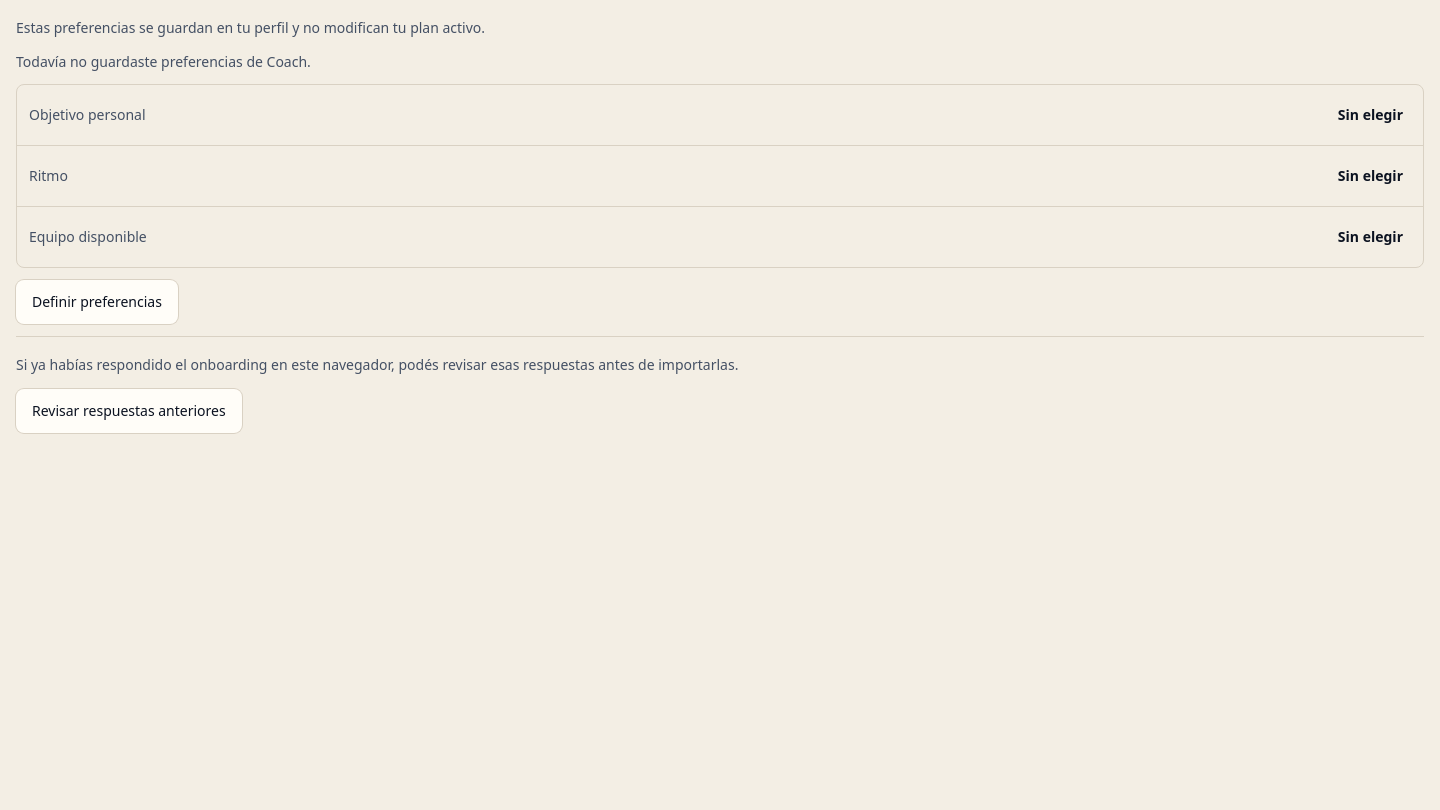
Test: ProfileCoachContext › refreshes server state after a conditional import loses a 409 race
Check: the text "Todavía no guardaste preferencias de Coach." is shown, box [16, 52, 311, 71]
Click the button "Revisar respuestas anteriores".
click(129, 411)  # box [16, 389, 242, 433]
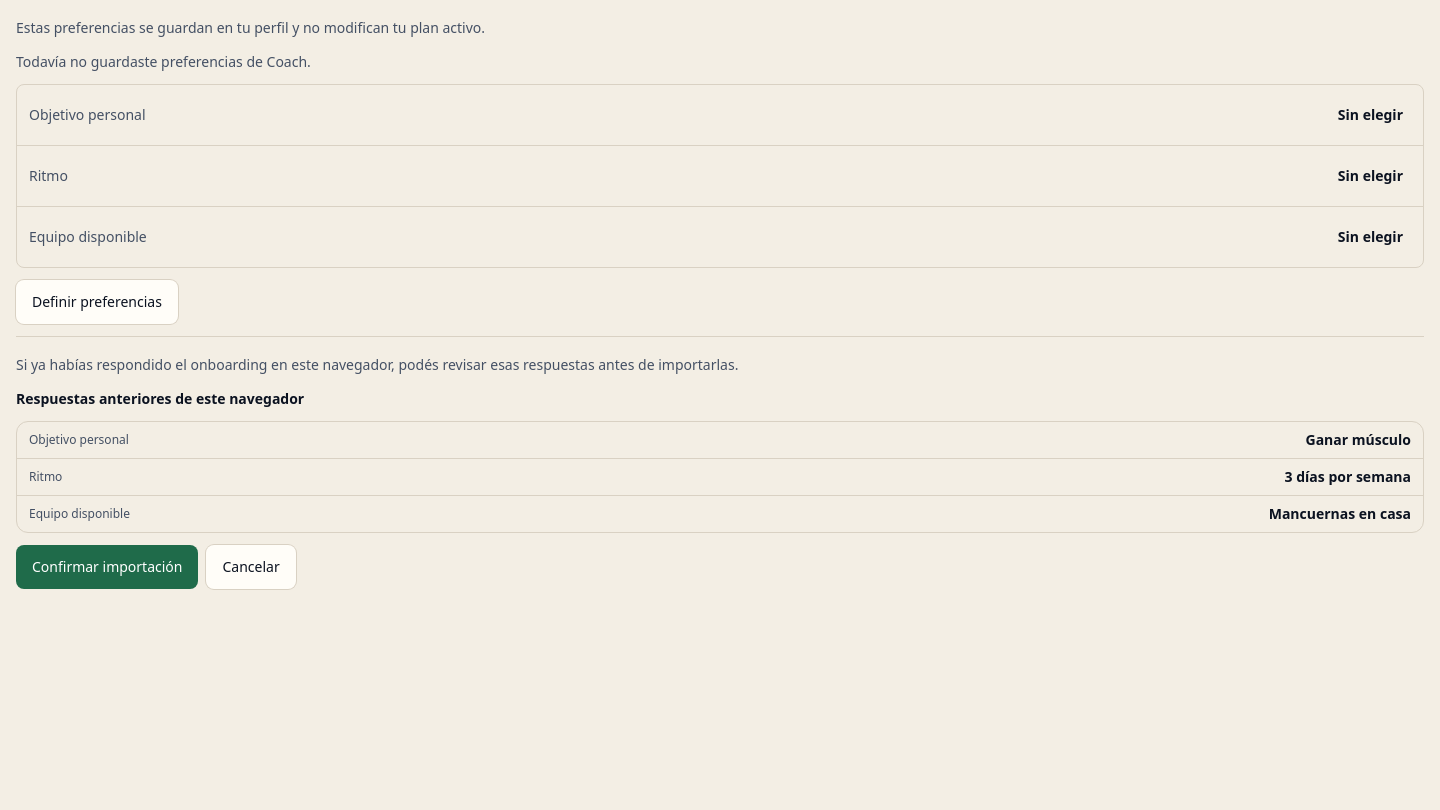
Check: the heading "Respuestas anteriores de este navegador" is shown, box [16, 389, 304, 408]
Click the button "Confirmar importación".
click(107, 567)  # box [16, 545, 198, 589]
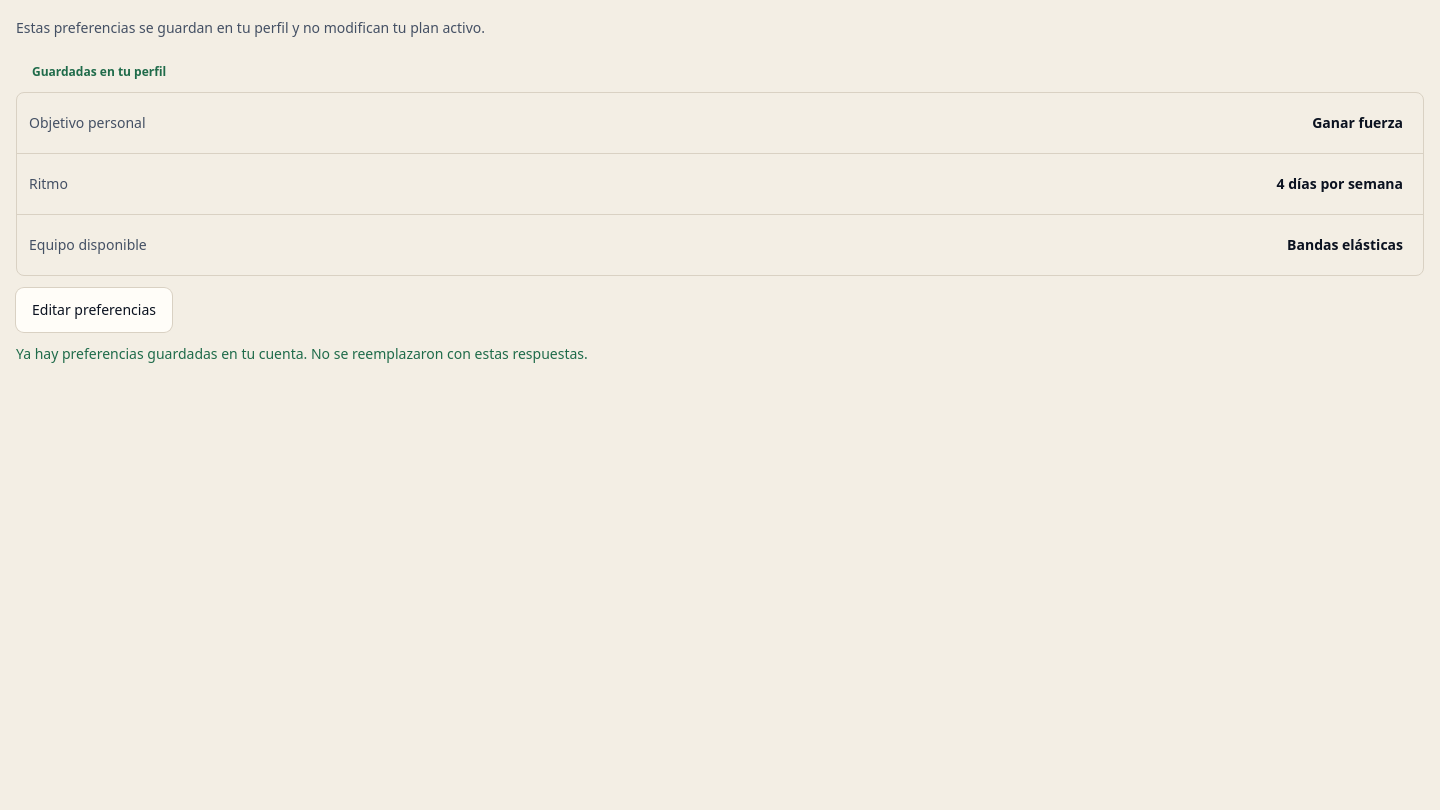
Check: the button "Ganar fuerza" is shown, box [1304, 101, 1411, 145]
Check: the button "4 días por semana" is shown, box [1268, 162, 1411, 206]
Check: the button "Bandas elásticas" is shown, box [1279, 223, 1411, 267]
